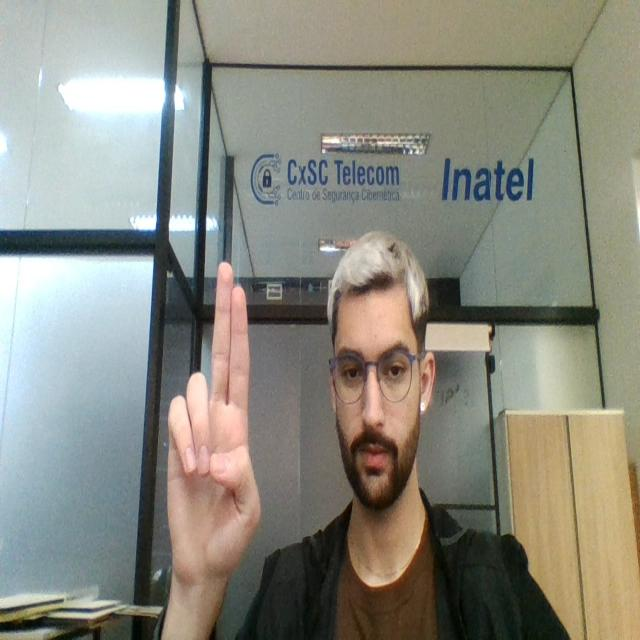U: (158, 254, 263, 576)
